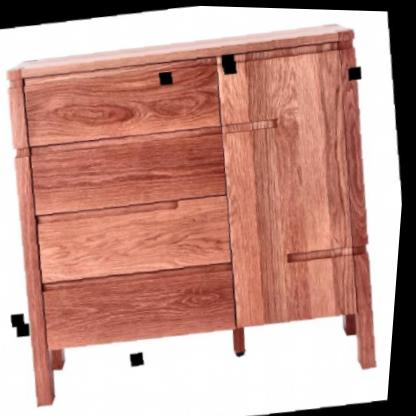Sideboard: (8, 23, 383, 408)
